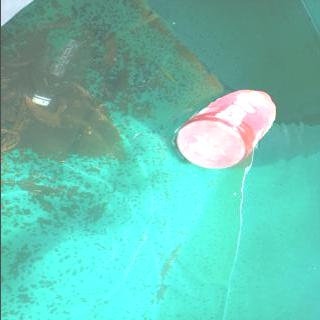bottle: (174, 88, 278, 170)
